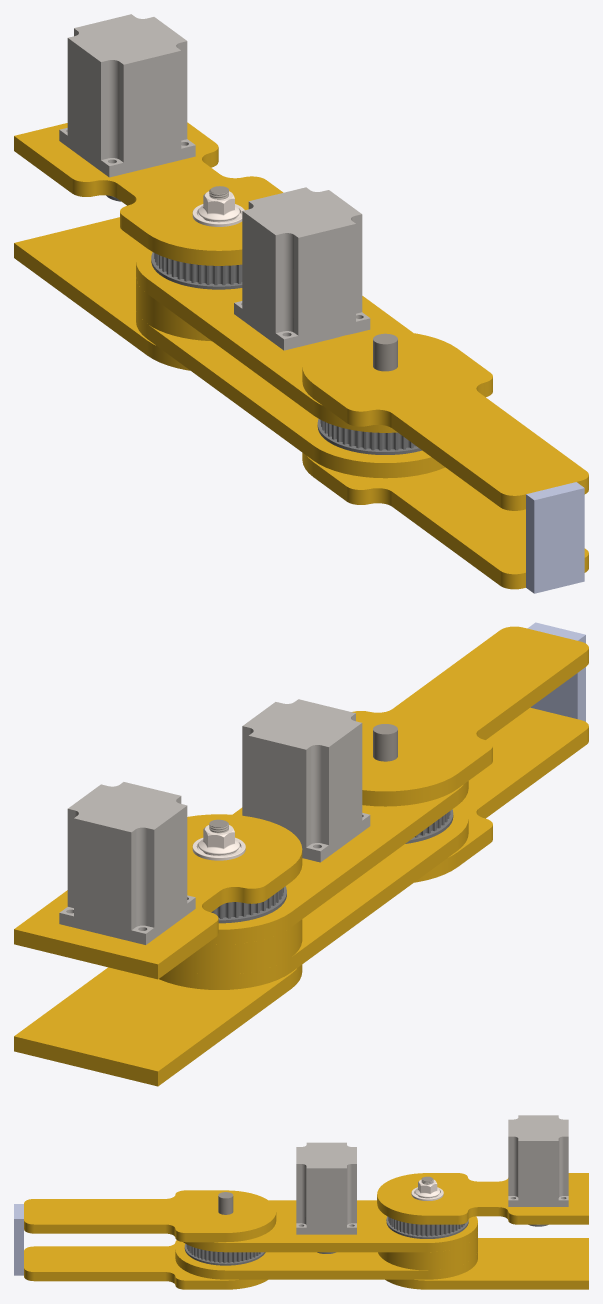
File: bot.gltf
The picture shows the model from 3 angles, top to bottom: view 1: azimuth 30°, elevation 25°; view 2: azimuth 150°, elevation 25°; view 3: azimuth 270°, elevation 25°; orthographic projection. The views are drawn at different scales.
Visible parts, largest first — view 1: Copy of Arm2Bottom^A2_scara_bot-2 - Part, Copy of Motor^A1_scara_bot-1 - Part, Copy of Motor^Base_scara_bot-1 - Part, Copy of MainSupport^Base_scara_bot-1 - Part, Copy of Arm2Bottom^A2_scara_bot-1 - Part, Copy of Arm1Bottom^A1_scara_bot-1 - Part, Copy of MainSupportBottom^Base_scara_bot-1 - Part, Copy of Arm1Top^A1_scara_bot-1 - Part, Copy of Part1^A2_scara_bot-1 - Part, HTD-5M-15mm-plain-1 - Part, HTD-5M-15mm-plain2-1 - Part, Copy of Spacer^A1_scara_bot-1 - Part (+2 smaller); view 2: Copy of Arm2Bottom^A2_scara_bot-2 - Part, Copy of MainSupportBottom^Base_scara_bot-1 - Part, Copy of Motor^Base_scara_bot-1 - Part, Copy of Motor^A1_scara_bot-1 - Part, Copy of MainSupport^Base_scara_bot-1 - Part, Copy of Arm1Bottom^A1_scara_bot-1 - Part, Copy of Arm1Top^A1_scara_bot-1 - Part, Copy of Arm2Bottom^A2_scara_bot-1 - Part, Copy of Spacer^A1_scara_bot-1 - Part, Copy of Part1^A2_scara_bot-1 - Part, HTD-5M-15mm-plain-1 - Part, Copy of Arm2Shaft^A1_scara_bot-1 - Part (+1 smaller); view 3: Copy of Arm2Bottom^A2_scara_bot-2 - Part, Copy of MainSupport^Base_scara_bot-1 - Part, Copy of MainSupportBottom^Base_scara_bot-1 - Part, Copy of Arm2Bottom^A2_scara_bot-1 - Part, Copy of Arm1Top^A1_scara_bot-1 - Part, Copy of Arm1Bottom^A1_scara_bot-1 - Part, Copy of Motor^A1_scara_bot-1 - Part, Copy of Motor^Base_scara_bot-1 - Part, Copy of Spacer^A1_scara_bot-1 - Part, HTD-5M-15mm-plain-1 - Part, HTD-5M-15mm-plain2-1 - Part, Copy of Part1^A2_scara_bot-1 - Part (+2 smaller).
Boxes of the visible parts, box(x1,y1,x2,y2) form: Copy of Arm2Bottom^A2_scara_bot-2 - Part: box(302, 331, 588, 510); Copy of Motor^A1_scara_bot-1 - Part: box(234, 187, 370, 350); Copy of Motor^Base_scara_bot-1 - Part: box(59, 14, 195, 177); Copy of MainSupport^Base_scara_bot-1 - Part: box(14, 122, 283, 265); Copy of Arm2Bottom^A2_scara_bot-1 - Part: box(302, 453, 588, 589); Copy of Arm1Bottom^A1_scara_bot-1 - Part: box(136, 309, 445, 478); Copy of MainSupportBottom^Base_scara_bot-1 - Part: box(14, 217, 189, 370); Copy of Arm1Top^A1_scara_bot-1 - Part: box(136, 246, 412, 432); Copy of Part1^A2_scara_bot-1 - Part: box(526, 482, 584, 593); HTD-5M-15mm-plain-1 - Part: box(151, 252, 242, 289); HTD-5M-15mm-plain2-1 - Part: box(317, 419, 421, 454); Copy of Spacer^A1_scara_bot-1 - Part: box(136, 278, 211, 341); Copy of Arm2Bottom^A2_scara_bot-2 - Part: box(352, 626, 588, 806); Copy of MainSupportBottom^Base_scara_bot-1 - Part: box(14, 965, 302, 1086); Copy of Motor^Base_scara_bot-1 - Part: box(59, 782, 195, 944); Copy of Motor^A1_scara_bot-1 - Part: box(242, 699, 370, 862); Copy of MainSupport^Base_scara_bot-1 - Part: box(14, 814, 302, 979); Copy of Arm1Bottom^A1_scara_bot-1 - Part: box(159, 803, 468, 989); Copy of Arm1Top^A1_scara_bot-1 - Part: box(206, 781, 468, 944); Copy of Arm2Bottom^A2_scara_bot-1 - Part: box(414, 707, 588, 882); Copy of Spacer^A1_scara_bot-1 - Part: box(173, 919, 302, 974); Copy of Part1^A2_scara_bot-1 - Part: box(527, 622, 585, 721); HTD-5M-15mm-plain-1 - Part: box(211, 886, 286, 923); Copy of Arm2Shaft^A1_scara_bot-1 - Part: box(373, 724, 397, 761); Copy of Arm2Bottom^A2_scara_bot-2 - Part: box(24, 1190, 276, 1242); Copy of MainSupport^Base_scara_bot-1 - Part: box(377, 1173, 588, 1224); Copy of MainSupportBottom^Base_scara_bot-1 - Part: box(385, 1238, 588, 1289); Copy of Arm2Bottom^A2_scara_bot-1 - Part: box(24, 1240, 267, 1289); Copy of Arm1Top^A1_scara_bot-1 - Part: box(183, 1200, 477, 1252); Copy of Arm1Bottom^A1_scara_bot-1 - Part: box(175, 1241, 477, 1279); Copy of Motor^A1_scara_bot-1 - Part: box(296, 1142, 356, 1234); Copy of Motor^Base_scara_bot-1 - Part: box(508, 1115, 568, 1206); Copy of Spacer^A1_scara_bot-1 - Part: box(378, 1232, 477, 1270); HTD-5M-15mm-plain-1 - Part: box(386, 1216, 468, 1238); HTD-5M-15mm-plain2-1 - Part: box(184, 1244, 265, 1265); Copy of Part1^A2_scara_bot-1 - Part: box(14, 1204, 23, 1275).
Size of the model in its own units: 0.1 by 0.1615 by 0.57.
